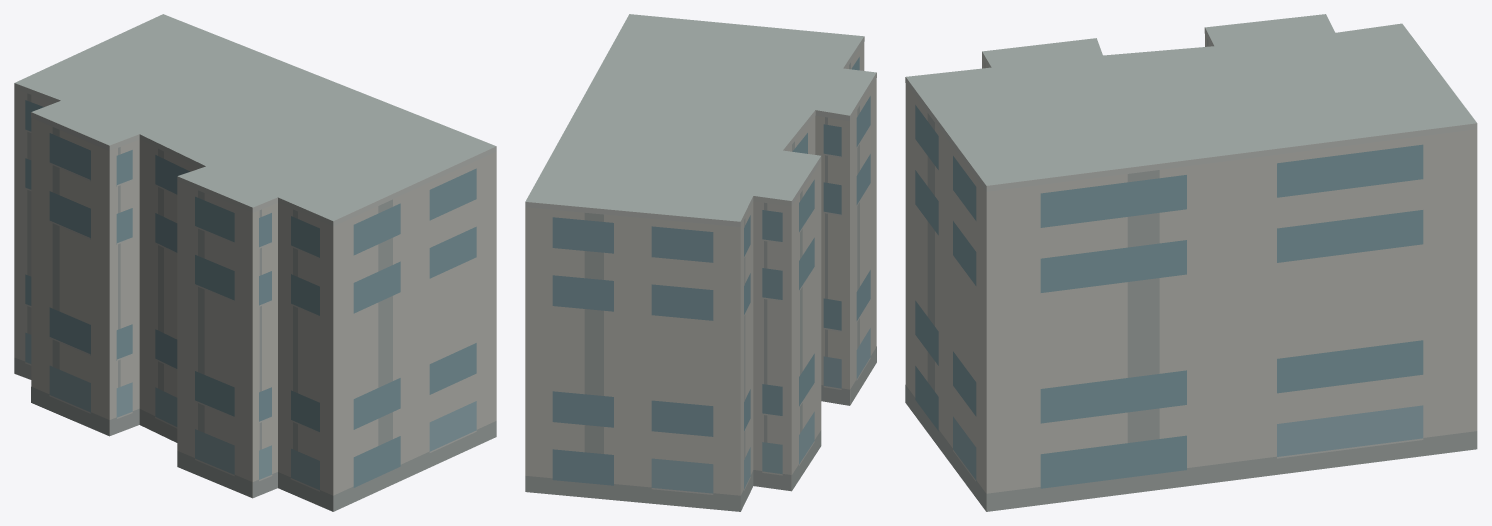
The model's file is survey-upis-32898503.glb.
3 views of the same model, side by side, from view 1: azimuth 30°, elevation 25°; view 2: azimuth 150°, elevation 25°; view 3: azimuth 270°, elevation 25° (orthographic). The views are drawn at different scales.
Parts seen in each view (by area): view 1: survey-upis-32898503.tmp; view 2: survey-upis-32898503.tmp; view 3: survey-upis-32898503.tmp.
Boxes of the visible parts, left/top/right/bottom form: survey-upis-32898503.tmp: left=14, top=14, right=496, bottom=511; survey-upis-32898503.tmp: left=525, top=14, right=876, bottom=511; survey-upis-32898503.tmp: left=905, top=14, right=1477, bottom=511.
Size of the model in its own units: 14.71 by 13 by 20.68.
